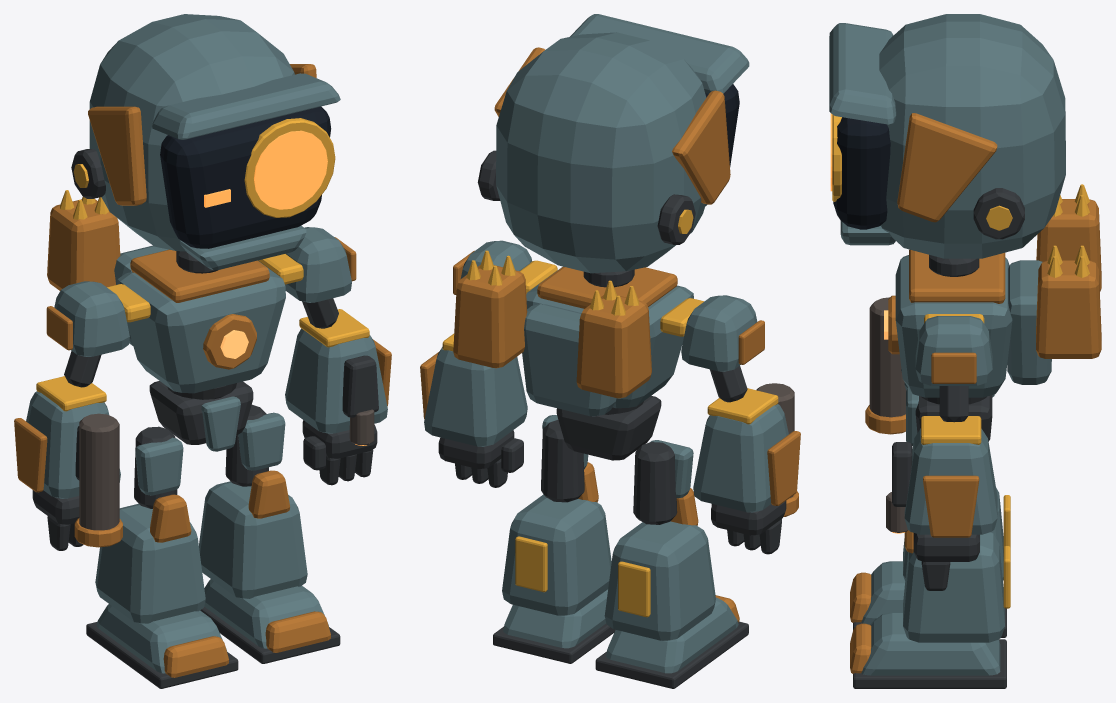
Rendered from artilheiro.glb.
3 renders of one model, left to right at view 1: azimuth 30°, elevation 25°; view 2: azimuth 150°, elevation 25°; view 3: azimuth 270°, elevation 25°, orthographic. The views are drawn at different scales.
Visible parts, largest first — view 1: cabeca_p, visor, tronco_p, bota, bota.001, testa, antebraco, casulo.001, canhao, olho, placa_lado.001, ombro_p.001 (+38 smaller); view 2: cabeca_p, bota.001, bota, antebraco, antebraco.001, casulo.001, mochila, casulo, testa, ombro_p.001, pe.001, placa_lado.001 (+27 smaller); view 3: cabeca_p, bota, placa_lado, casulo, tronco_p, testa, pe, visor, antebraco, mochila, gola, ombro_p (+25 smaller).
Part boxes in pixels (x1=…): cabeca_p: x1=89, y1=14, x2=294, y2=251; visor: x1=160, y1=106, x2=331, y2=248; tronco_p: x1=117, y1=261, x2=285, y2=393; bota: x1=199, y1=481, x2=307, y2=598; bota.001: x1=95, y1=503, x2=205, y2=623; testa: x1=152, y1=73, x2=340, y2=139; antebraco: x1=285, y1=328, x2=387, y2=433; casulo.001: x1=47, y1=199, x2=120, y2=290; canhao: x1=79, y1=413, x2=119, y2=530; olho: x1=254, y1=130, x2=327, y2=209; placa_lado.001: x1=88, y1=106, x2=146, y2=205; ombro_p.001: x1=54, y1=281, x2=129, y2=356; cabeca_p: x1=496, y1=32, x2=706, y2=273; bota.001: x1=604, y1=521, x2=715, y2=640; bota: x1=502, y1=494, x2=611, y2=615; antebraco: x1=424, y1=347, x2=527, y2=446; antebraco.001: x1=693, y1=404, x2=788, y2=512; casulo.001: x1=576, y1=295, x2=651, y2=398; mochila: x1=522, y1=304, x2=616, y2=416; casulo: x1=453, y1=265, x2=527, y2=368; testa: x1=570, y1=14, x2=749, y2=93; ombro_p.001: x1=681, y1=295, x2=757, y2=371; pe.001: x1=606, y1=597, x2=738, y2=673; placa_lado.001: x1=672, y1=90, x2=730, y2=204; cabeca_p: x1=879, y1=14, x2=1065, y2=258; bota: x1=903, y1=532, x2=1004, y2=642; placa_lado: x1=897, y1=113, x2=997, y2=222; casulo: x1=1036, y1=260, x2=1101, y2=358; tronco_p: x1=895, y1=255, x2=1012, y2=397; testa: x1=829, y1=23, x2=896, y2=124; pe: x1=861, y1=612, x2=1000, y2=675; visor: x1=833, y1=117, x2=890, y2=229; antebraco: x1=904, y1=428, x2=997, y2=534; mochila: x1=1007, y1=260, x2=1051, y2=384; gola: x1=909, y1=249, x2=1005, y2=303; ombro_p: x1=915, y1=316, x2=992, y2=385.
Bounding box in the file's own units: 0.692 × 1.13 × 0.4511.
